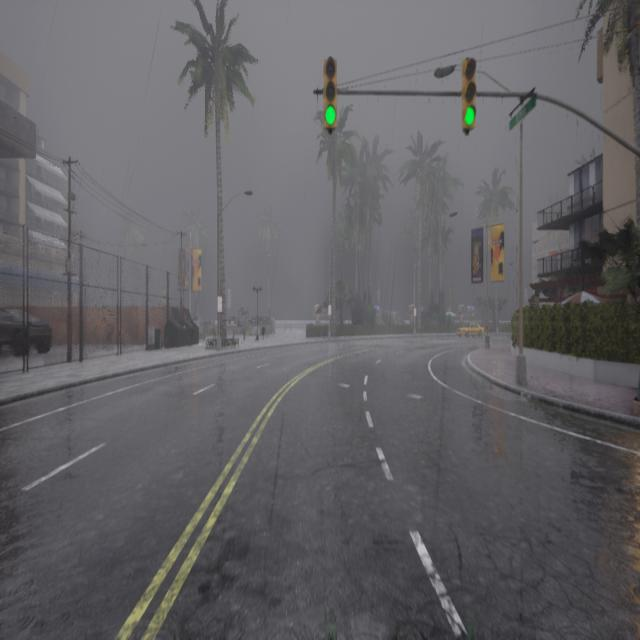9: (321, 53, 341, 138), (461, 59, 477, 135)
bien_hieu_lenh: (323, 102, 338, 129), (462, 103, 476, 127)
